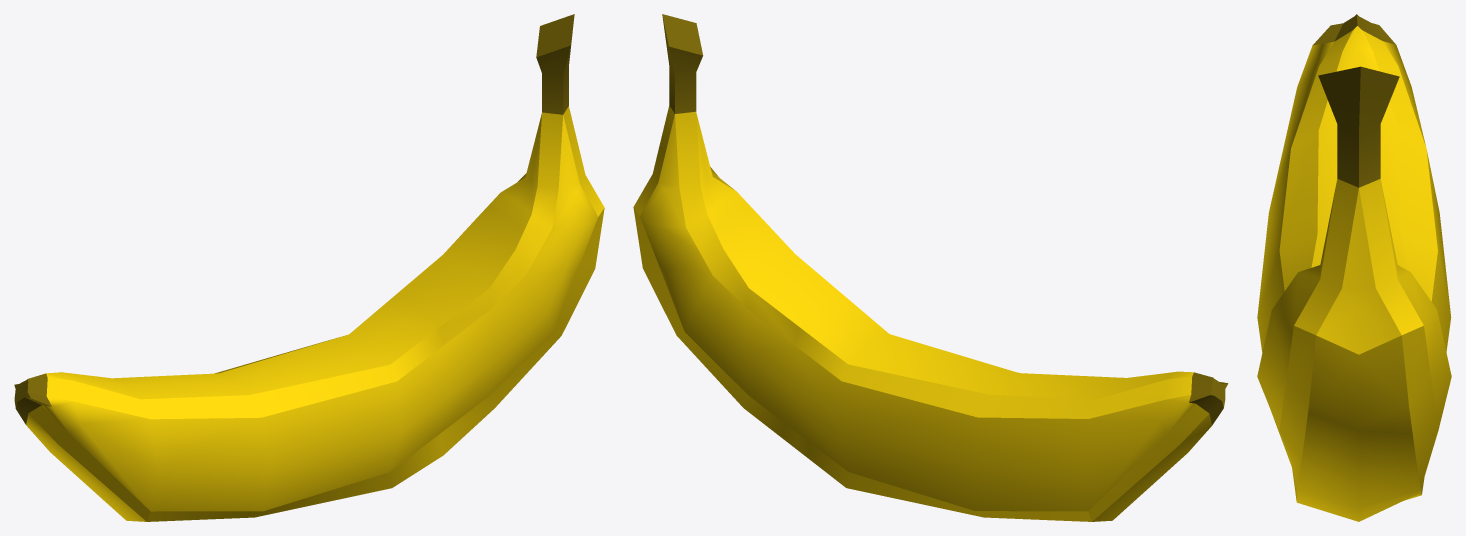
Rendered from banana.fbx.
3 renders of one model, left to right at view 1: azimuth 30°, elevation 25°; view 2: azimuth 150°, elevation 25°; view 3: azimuth 270°, elevation 25°, orthographic. The views are drawn at different scales.
Visible parts, largest first — view 1: banana; view 2: banana; view 3: banana.
Part boxes in pixels (x1,y1,x2,y2): banana: (14, 14, 604, 521); banana: (633, 14, 1228, 521); banana: (1257, 14, 1451, 521).
Bounding box in the file's own units: 0.2009 × 0.1408 × 0.0422.
